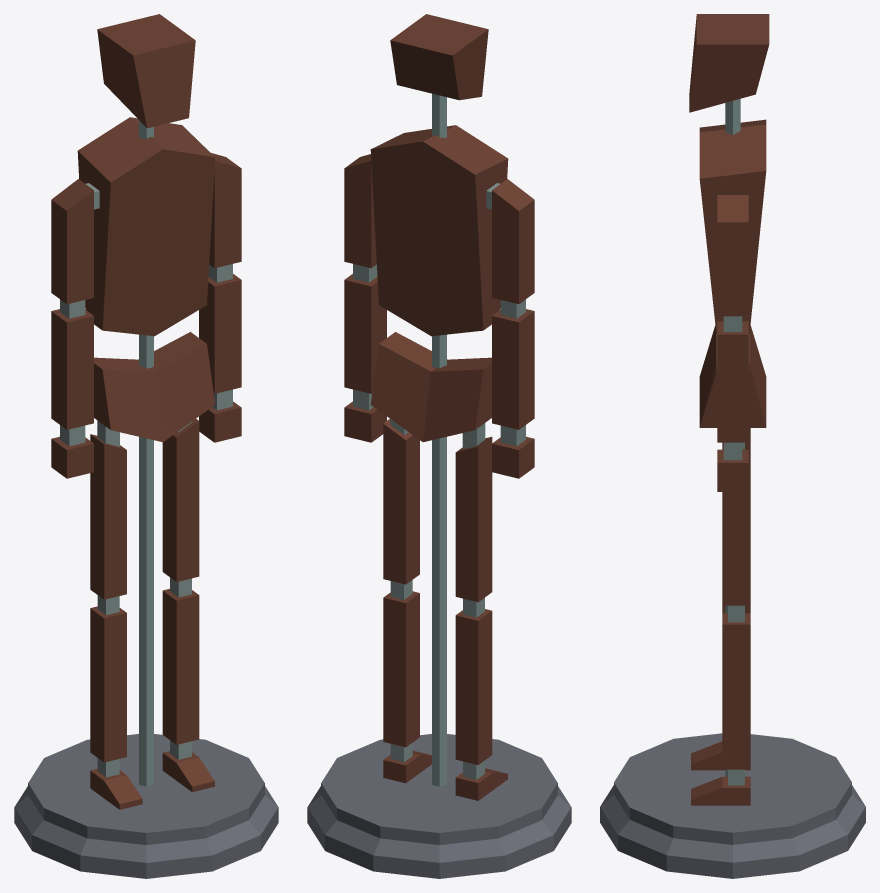
The model's file is Maniken.fbx.
3 views of the same model, side by side, from view 1: azimuth 30°, elevation 25°; view 2: azimuth 150°, elevation 25°; view 3: azimuth 270°, elevation 25° (orthographic).
Parts seen in each view (by area): view 1: Cylinder.034; view 2: Cylinder.034; view 3: Cylinder.034.
Boxes of the visible parts, x1,y1,x2,y2 form: Cylinder.034: [14, 14, 278, 878]; Cylinder.034: [307, 14, 571, 878]; Cylinder.034: [600, 14, 865, 878].
Bounding box in the file's own units: 88.95 × 293 × 88.95.
